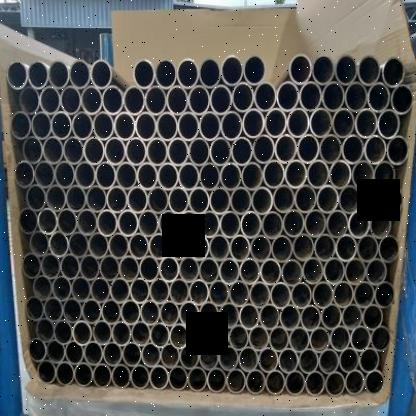pipe: (334, 53, 358, 86), (357, 54, 381, 86), (381, 56, 405, 88), (321, 80, 345, 112), (344, 80, 368, 112), (276, 81, 300, 112), (367, 82, 391, 113), (309, 107, 333, 138), (364, 134, 387, 166), (386, 134, 409, 166), (123, 84, 146, 116), (332, 107, 355, 139), (242, 107, 265, 139), (252, 134, 275, 165), (341, 134, 364, 165), (329, 159, 352, 190), (289, 53, 312, 84), (312, 54, 335, 85), (243, 54, 266, 85), (299, 81, 322, 112), (390, 83, 413, 114), (221, 54, 243, 86), (199, 56, 221, 88), (254, 80, 276, 112), (232, 81, 254, 113), (210, 84, 232, 116), (188, 84, 210, 116), (102, 84, 124, 116), (166, 84, 188, 116), (355, 107, 377, 139), (377, 108, 399, 140), (297, 134, 320, 164), (274, 134, 297, 164), (319, 134, 342, 164), (351, 160, 374, 190), (241, 161, 264, 191), (294, 184, 317, 214), (272, 184, 295, 214), (316, 184, 339, 214), (338, 185, 361, 215), (282, 209, 305, 239), (261, 210, 284, 240), (220, 110, 243, 140), (263, 159, 285, 190), (373, 160, 395, 191), (177, 57, 199, 88), (155, 58, 177, 89), (133, 58, 155, 89), (145, 85, 167, 116), (287, 107, 309, 138), (265, 107, 287, 138), (199, 110, 221, 141), (135, 110, 157, 141), (83, 136, 105, 166), (231, 136, 253, 166), (125, 136, 147, 166), (146, 137, 168, 167), (188, 137, 210, 167), (167, 137, 189, 167), (285, 159, 307, 189), (307, 159, 329, 189), (74, 160, 96, 190), (157, 161, 179, 191), (106, 184, 128, 214), (188, 186, 210, 216), (251, 186, 273, 216), (209, 186, 231, 216), (230, 186, 252, 216), (348, 210, 370, 240), (240, 210, 262, 240), (60, 86, 82, 116), (51, 110, 73, 140), (178, 110, 199, 141), (157, 110, 178, 141), (20, 84, 40, 116), (147, 186, 169, 215), (360, 186, 382, 215), (304, 209, 326, 238), (326, 209, 348, 238), (292, 233, 314, 262), (314, 233, 336, 262), (250, 234, 272, 263), (271, 234, 293, 263), (302, 257, 324, 286), (281, 258, 303, 287), (69, 60, 91, 89), (27, 60, 49, 89), (105, 136, 126, 166), (210, 136, 231, 166), (220, 162, 241, 192), (178, 162, 199, 192), (199, 162, 220, 192), (86, 184, 107, 214), (370, 210, 391, 240), (81, 85, 102, 115), (40, 85, 61, 115), (31, 110, 52, 140), (72, 110, 93, 140), (93, 111, 114, 141), (114, 111, 135, 141), (136, 162, 158, 190), (96, 209, 118, 237), (117, 209, 139, 237), (219, 210, 241, 238), (335, 234, 357, 262), (229, 234, 251, 262), (218, 257, 240, 285), (323, 258, 345, 286), (344, 258, 366, 286), (260, 258, 282, 286), (353, 280, 375, 308), (312, 281, 334, 309), (290, 282, 312, 310), (63, 136, 84, 165), (95, 161, 116, 190), (116, 161, 137, 190), (382, 186, 403, 215), (168, 186, 189, 215), (209, 233, 230, 262), (378, 234, 399, 263), (91, 60, 112, 89), (48, 60, 69, 89), (23, 135, 43, 165), (341, 303, 363, 330), (320, 303, 342, 330), (279, 303, 301, 330), (300, 304, 322, 331), (288, 326, 310, 353), (304, 370, 326, 397), (14, 160, 35, 188), (127, 186, 148, 214), (37, 207, 58, 235), (57, 208, 78, 236), (138, 210, 159, 238), (199, 210, 220, 238), (48, 230, 69, 258), (68, 230, 89, 258), (88, 232, 109, 260), (357, 234, 378, 262), (40, 252, 61, 280), (99, 254, 120, 282), (139, 255, 160, 283), (159, 256, 180, 284), (239, 258, 260, 286), (366, 258, 387, 286), (90, 276, 111, 304), (188, 278, 209, 306), (229, 280, 250, 308), (249, 281, 270, 309), (374, 281, 395, 309), (270, 281, 291, 309), (265, 368, 286, 396), (43, 136, 63, 165), (55, 160, 75, 189), (66, 184, 86, 213), (11, 111, 31, 140), (79, 254, 100, 281), (149, 277, 170, 304), (140, 299, 161, 326), (159, 300, 180, 327), (218, 301, 239, 328), (259, 303, 280, 330), (330, 325, 351, 352), (350, 325, 371, 352), (309, 326, 330, 353), (218, 345, 239, 372), (278, 348, 299, 375), (298, 348, 319, 375), (318, 348, 339, 375), (7, 61, 28, 88), (35, 160, 55, 188), (46, 184, 66, 212), (159, 210, 179, 238), (179, 210, 199, 238), (109, 232, 129, 260), (129, 232, 149, 260), (149, 232, 169, 260), (169, 232, 189, 260), (189, 234, 209, 262), (22, 252, 42, 280), (119, 255, 139, 283), (179, 256, 199, 284), (199, 256, 219, 284), (169, 278, 189, 306), (333, 280, 353, 308), (179, 300, 199, 328), (239, 302, 259, 330), (209, 322, 229, 350), (199, 344, 219, 372), (258, 346, 278, 374), (339, 346, 359, 374), (111, 362, 131, 390), (207, 366, 227, 394), (325, 370, 345, 398), (228, 324, 249, 350), (370, 326, 391, 352), (77, 209, 97, 236), (60, 253, 80, 280), (52, 275, 72, 302), (71, 276, 91, 303), (110, 277, 130, 304), (130, 277, 150, 304), (209, 280, 229, 307), (62, 297, 82, 324), (121, 299, 141, 326), (199, 301, 219, 328), (363, 303, 383, 330), (189, 322, 209, 349), (249, 325, 269, 352), (102, 340, 122, 367), (122, 341, 142, 368), (141, 341, 161, 368), (160, 343, 180, 370), (238, 346, 258, 373), (226, 367, 246, 394), (285, 369, 305, 396), (27, 184, 46, 212), (33, 274, 52, 302), (345, 368, 364, 396), (101, 299, 121, 325), (269, 326, 289, 352), (83, 340, 103, 366), (168, 365, 188, 391), (187, 366, 207, 392), (19, 208, 38, 235), (30, 230, 49, 257), (44, 296, 63, 323), (82, 298, 101, 325), (54, 318, 73, 345), (150, 321, 169, 348), (180, 343, 199, 370), (246, 368, 265, 395), (92, 320, 112, 345), (169, 323, 189, 348), (64, 340, 84, 365), (92, 363, 112, 388), (130, 364, 150, 389), (149, 365, 169, 390), (36, 317, 55, 343), (112, 320, 131, 346), (28, 337, 47, 363), (359, 347, 378, 373), (365, 369, 384, 395), (73, 320, 92, 345), (131, 321, 150, 346), (46, 339, 65, 364), (74, 362, 93, 387), (26, 296, 44, 321), (38, 359, 56, 384), (56, 361, 74, 386)
